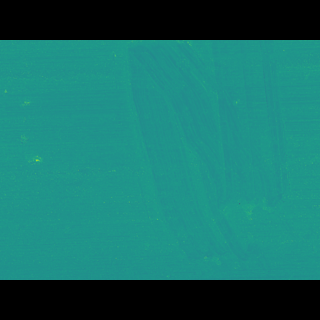Loch: (115, 68, 299, 244)
